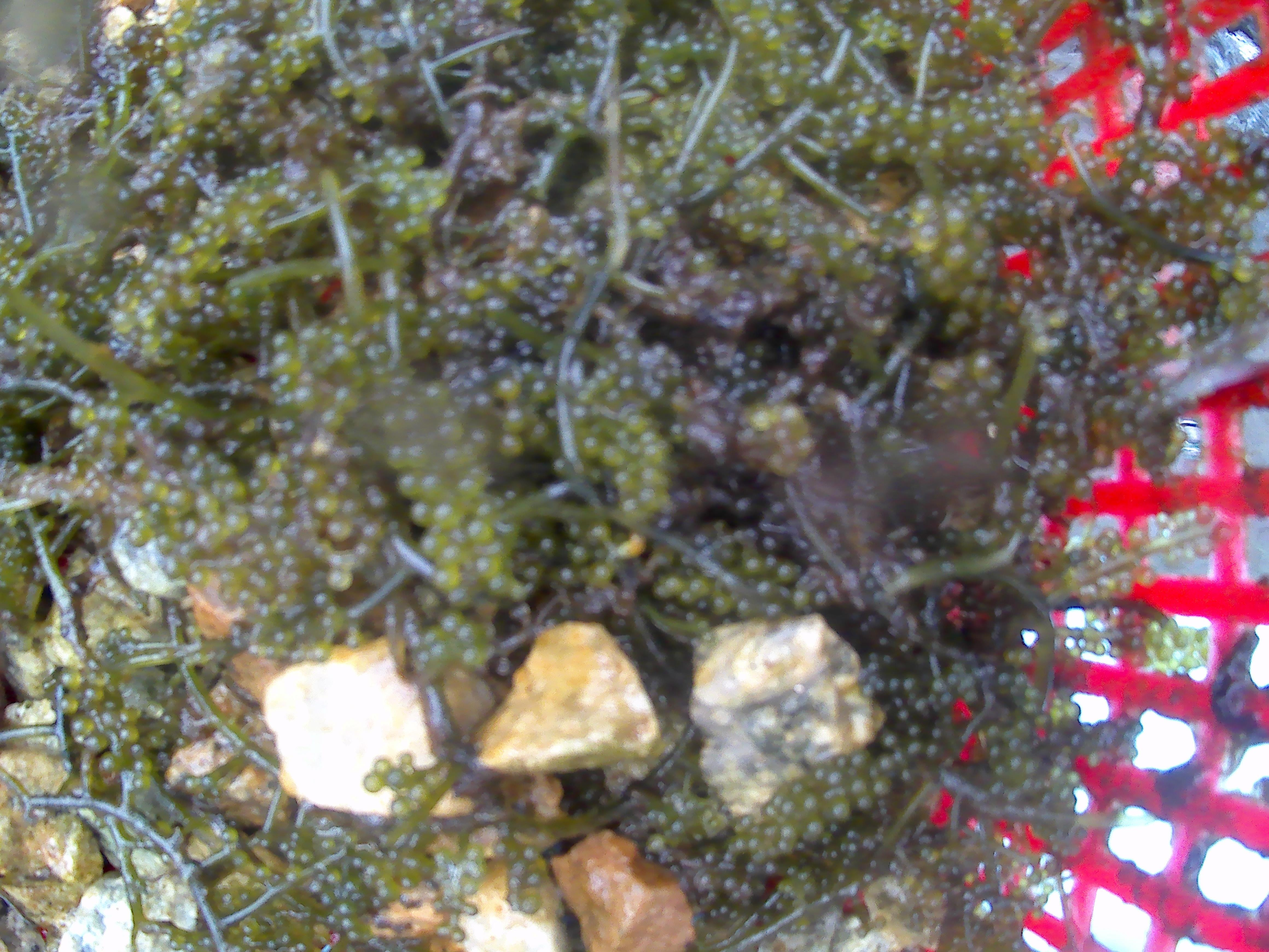Darkening: (1172, 82, 1193, 103), (1005, 292, 1026, 313), (1073, 477, 1092, 500), (1251, 163, 1269, 187), (1030, 262, 1051, 279), (204, 287, 222, 305), (1009, 275, 1027, 293), (383, 104, 400, 123), (1185, 159, 1202, 178), (1176, 62, 1195, 79), (1212, 170, 1228, 188), (1223, 175, 1237, 195), (762, 536, 775, 549)
Harvestable: (270, 352, 301, 375), (68, 404, 95, 430), (916, 226, 939, 251), (438, 503, 460, 529), (412, 501, 434, 527), (329, 516, 350, 543), (499, 432, 522, 456), (947, 243, 968, 269), (916, 195, 937, 221), (425, 471, 445, 498), (764, 82, 788, 104), (323, 408, 345, 431), (174, 233, 196, 256), (409, 782, 432, 804), (463, 620, 481, 648), (947, 209, 968, 233), (328, 570, 352, 591), (802, 794, 822, 819), (400, 471, 422, 493), (735, 221, 757, 243), (364, 772, 386, 794), (459, 875, 481, 897), (498, 380, 521, 401), (486, 298, 507, 321), (295, 387, 317, 408), (387, 768, 408, 790), (177, 261, 197, 284), (904, 116, 925, 137), (570, 545, 591, 566), (409, 447, 431, 467), (607, 449, 627, 471), (385, 195, 407, 215), (741, 23, 761, 45), (768, 28, 788, 50), (432, 639, 451, 662), (172, 489, 191, 512), (444, 424, 465, 444), (409, 195, 429, 216), (458, 479, 477, 501), (507, 409, 526, 431), (475, 393, 494, 415), (340, 386, 359, 408), (352, 102, 374, 121), (930, 267, 952, 286), (584, 435, 601, 459), (108, 409, 132, 426), (318, 494, 338, 514), (199, 495, 220, 514), (643, 464, 664, 483), (334, 345, 353, 366), (394, 219, 413, 240), (181, 288, 203, 306), (474, 521, 494, 540), (273, 332, 292, 352), (901, 145, 920, 165), (831, 802, 850, 822), (790, 591, 810, 610), (60, 669, 80, 688), (85, 732, 106, 750), (928, 140, 945, 162), (758, 578, 775, 600), (424, 536, 443, 555), (534, 379, 553, 398), (472, 427, 490, 447), (622, 499, 640, 519), (409, 146, 427, 166), (332, 76, 350, 96), (121, 725, 139, 745), (212, 203, 229, 224), (229, 515, 247, 534), (445, 454, 464, 472), (643, 489, 662, 507), (465, 281, 484, 299), (296, 619, 315, 637), (166, 557, 184, 576), (52, 290, 70, 309), (242, 225, 261, 243), (743, 176, 761, 195), (374, 758, 393, 776), (617, 476, 637, 493), (535, 421, 551, 442), (983, 148, 999, 169), (357, 76, 375, 94), (810, 81, 828, 99), (951, 123, 969, 141), (974, 113, 992, 131), (729, 142, 747, 160), (101, 753, 119, 771), (228, 482, 245, 501), (416, 217, 435, 234), (872, 145, 891, 162), (771, 228, 788, 247), (134, 757, 153, 774), (133, 774, 152, 791), (443, 611, 458, 632), (502, 274, 520, 291), (144, 272, 161, 290), (154, 291, 172, 308), (165, 59, 182, 77), (1250, 189, 1268, 206), (61, 695, 78, 713), (447, 549, 463, 568), (929, 106, 945, 125), (73, 718, 92, 734), (164, 326, 179, 346), (859, 98, 879, 113), (806, 820, 823, 837), (793, 590, 810, 607), (853, 127, 869, 145), (747, 557, 763, 575), (777, 564, 793, 582), (432, 386, 447, 405), (301, 326, 316, 345), (782, 563, 797, 582), (257, 562, 278, 575), (802, 40, 815, 61), (367, 524, 384, 540), (1033, 335, 1049, 352), (781, 823, 795, 842), (276, 78, 292, 94), (851, 778, 867, 794), (578, 389, 594, 405), (221, 828, 237, 844), (394, 157, 411, 172), (644, 444, 662, 458), (252, 75, 266, 93), (964, 145, 977, 164), (874, 780, 890, 795), (327, 868, 342, 884), (316, 594, 332, 608), (359, 544, 372, 561), (655, 79, 669, 94), (275, 56, 287, 73), (780, 804, 797, 816), (173, 11, 185, 24)
